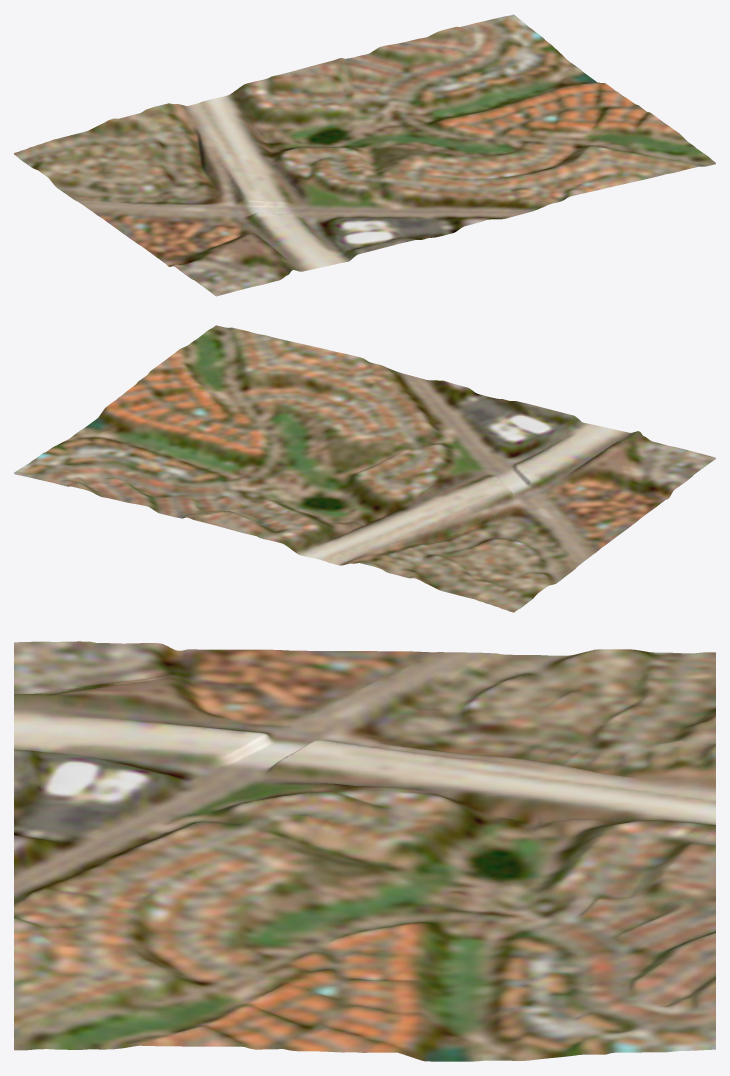
The model's file is terrain_r6_c7.glb.
3 views of the same model, one above another, from view 1: azimuth 30°, elevation 25°; view 2: azimuth 150°, elevation 25°; view 3: azimuth 270°, elevation 25° (orthographic). The views are drawn at different scales.
Visible parts, largest first — view 1: terrain_r6_c7_lod0; view 2: terrain_r6_c7_lod0; view 3: terrain_r6_c7_lod0.
Part boxes in pixels (<box>): terrain_r6_c7_lod0: <box>14,14,715,296</box>; terrain_r6_c7_lod0: <box>14,325,715,612</box>; terrain_r6_c7_lod0: <box>14,641,715,1061</box>.
Size of the model in its own units: 1125 by 48.82 by 787.
Materials: 1 (1 with a texture image).
